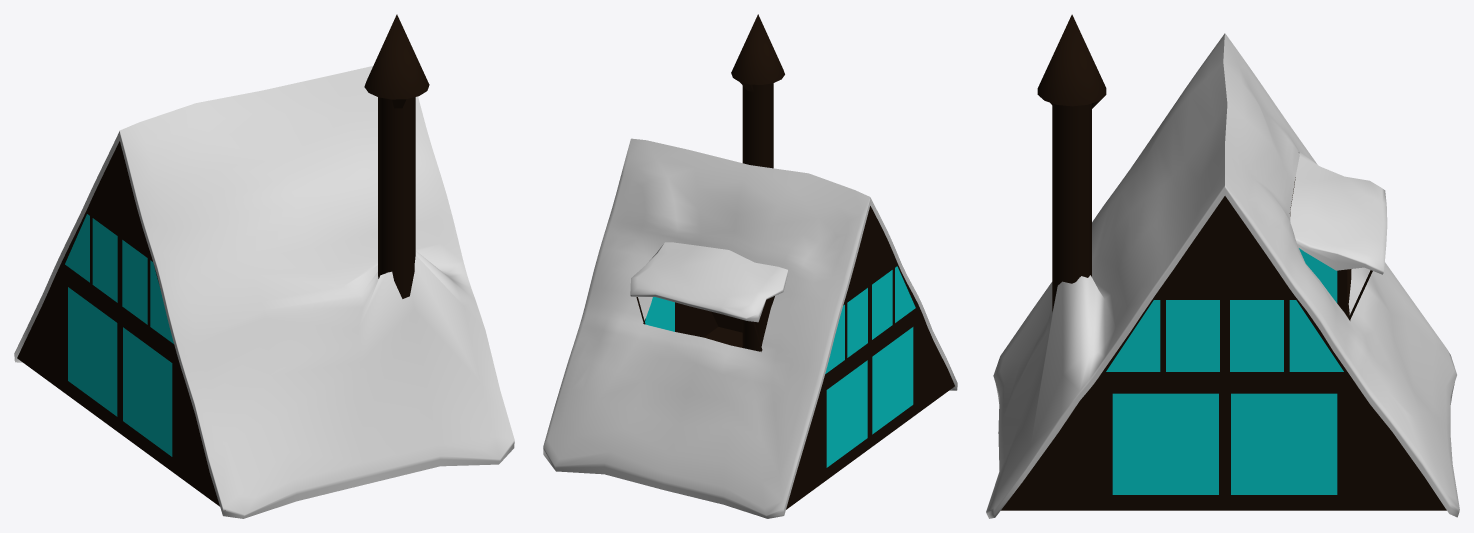
Rendered from Tent.fbx.
3 views of the same model, side by side, from view 1: azimuth 30°, elevation 25°; view 2: azimuth 150°, elevation 25°; view 3: azimuth 270°, elevation 25° (orthographic). The views are drawn at different scales.
Parts seen in each view (by area): view 1: pCylinder4; view 2: pCylinder4; view 3: pCylinder4.
Boxes of the visible parts, bbox=[...] form: pCylinder4: bbox=[14, 14, 514, 518]; pCylinder4: bbox=[543, 14, 957, 518]; pCylinder4: bbox=[986, 14, 1459, 518].
Size of the model in its own units: 9.01 by 12.91 by 11.76.
